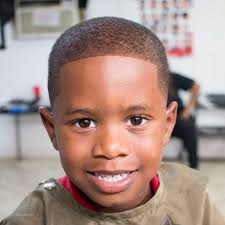person: (38, 14, 178, 210)
